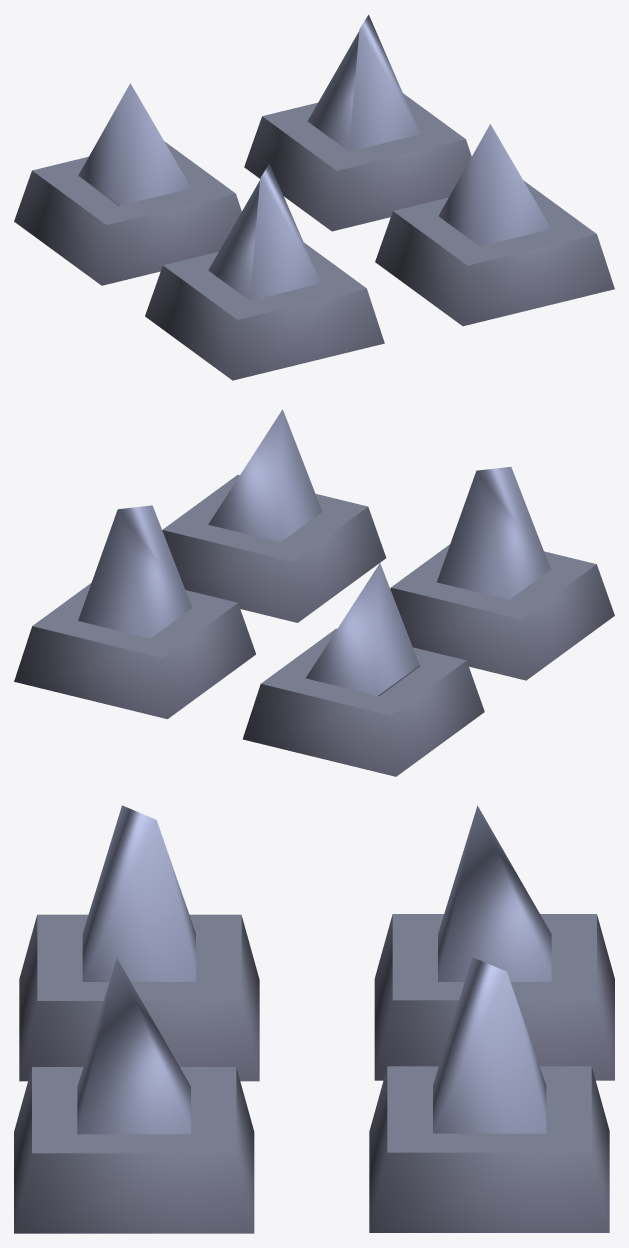
Rendered from cc0-trap-spikes-lod1.glb.
3 renders of one model, top to bottom at view 1: azimuth 30°, elevation 25°; view 2: azimuth 150°, elevation 25°; view 3: azimuth 270°, elevation 25°, orthographic. The views are drawn at different scales.
Visible parts, largest first — view 1: part_0, part_1; view 2: part_0, part_1; view 3: part_0, part_1.
Boxes of the visible parts, x1=… form: part_0: x1=14, y1=93, x2=614, y2=380; part_1: x1=78, y1=14, x2=551, y2=300; part_0: x1=14, y1=475, x2=614, y2=776; part_1: x1=78, y1=409, x2=550, y2=695; part_0: x1=14, y1=914, x2=614, y2=1233; part_1: x1=77, y1=805, x2=551, y2=1134.
Size of the model in its own units: 0.6392 by 0.255 by 0.6375.
1 material, 1 textured.
